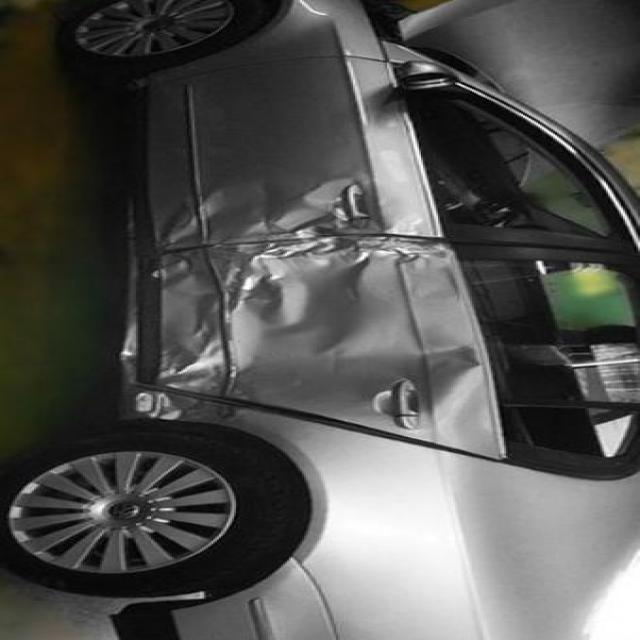dent: (114, 131, 456, 428)
